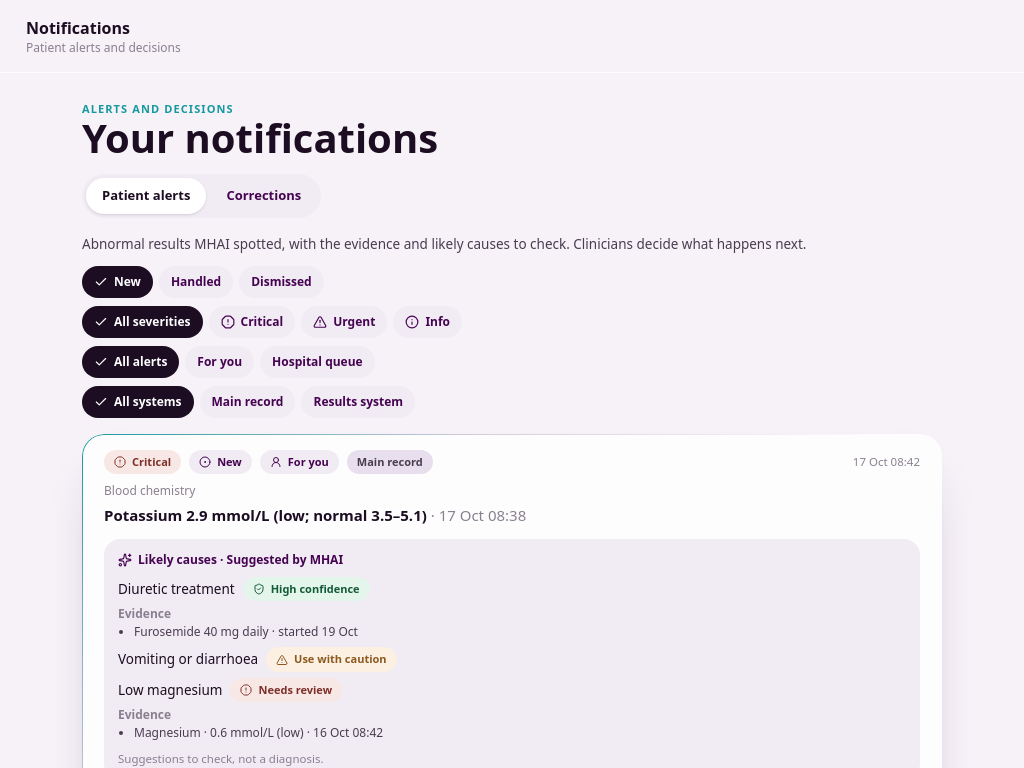
Notifications: Sent to filter › Sent to: Hospital queue lists only queue alerts
The image size is (1024, 768).
What coordinates should you click on to do the following:
click the button "Hospital queue"
I would click on:
 (317, 362)
Its box is [260, 346, 375, 378].
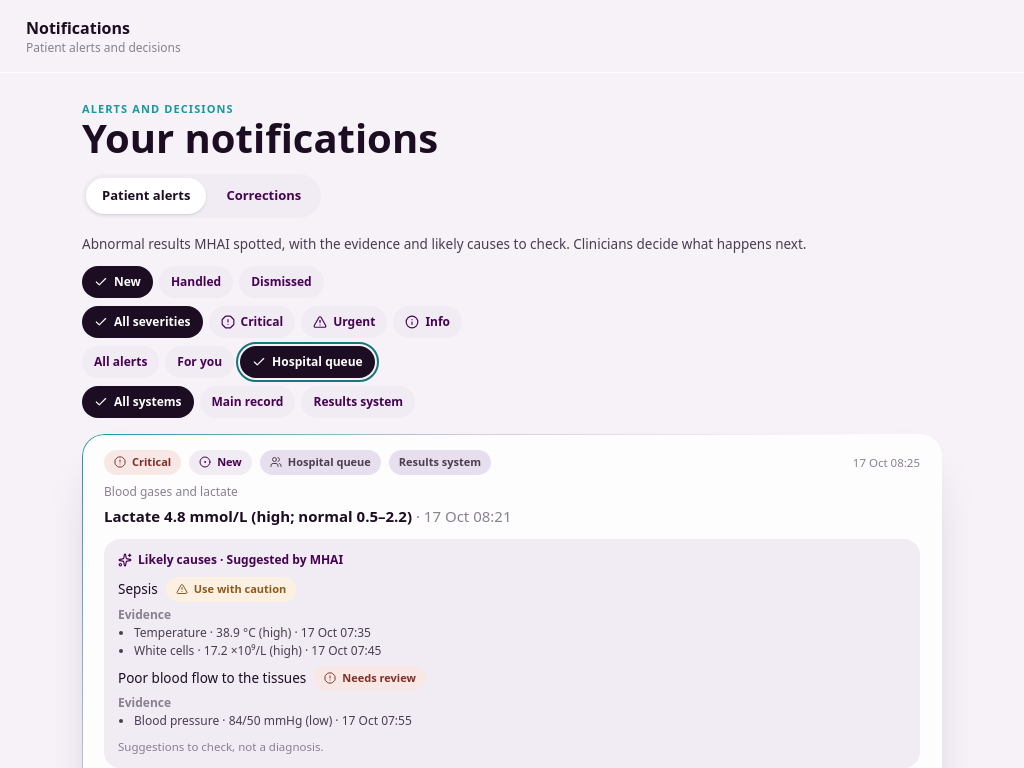
Expected: the text "Hospital queue" is shown, [260, 450, 381, 474]
What coordinates should you click on to do the following:
click the button "For you"
I would click on:
 (200, 362)
Its box is [165, 346, 234, 378].
(page scrolled)
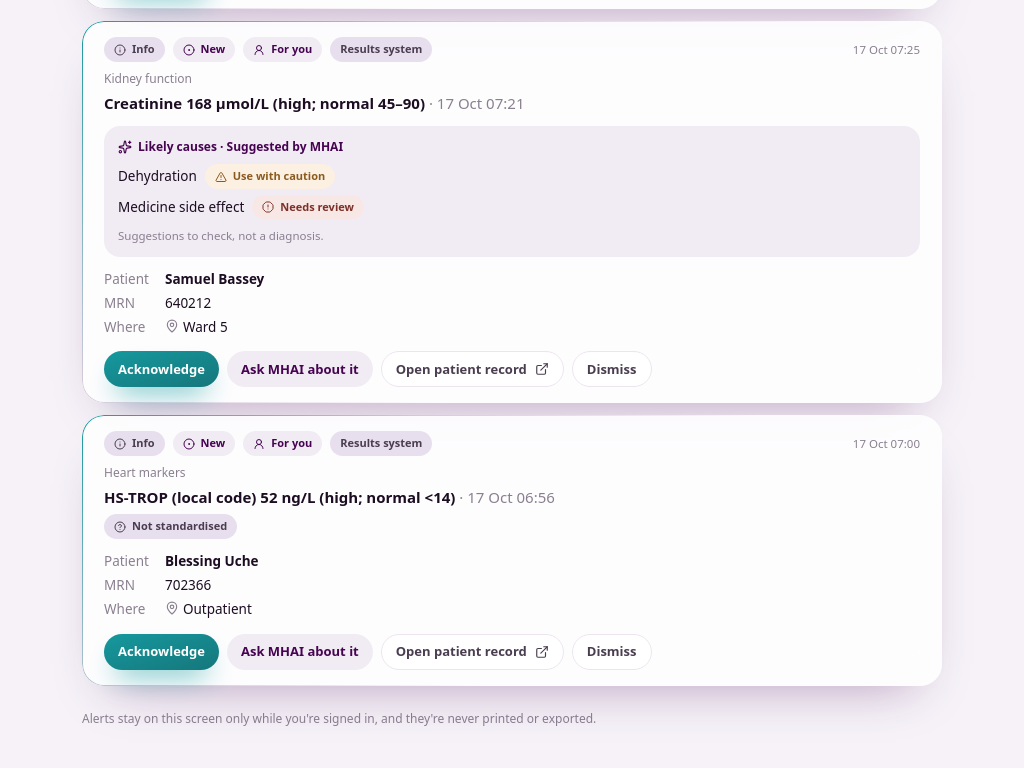
Result: the text "For you" in the row of "17 Oct 07:25" is shown at [271, 41, 312, 56]
Result: the text "For you" in the row of "17 Oct 07:00" is shown at [271, 435, 312, 450]
